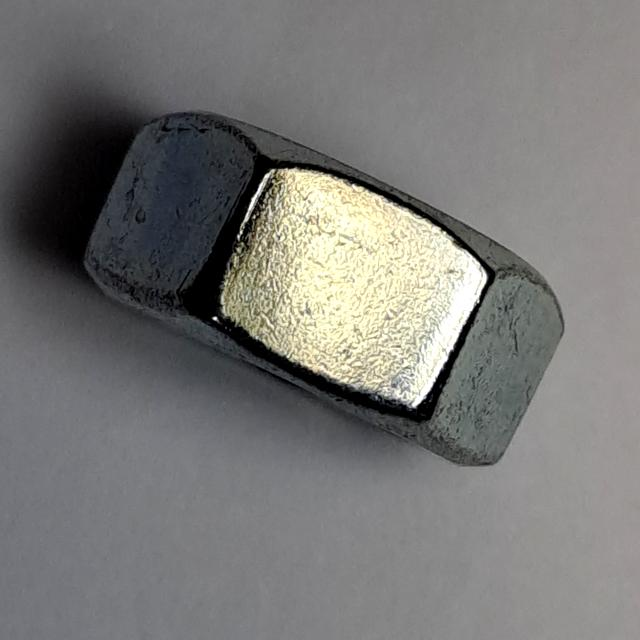Side_Excellent: (70, 100, 577, 483)
